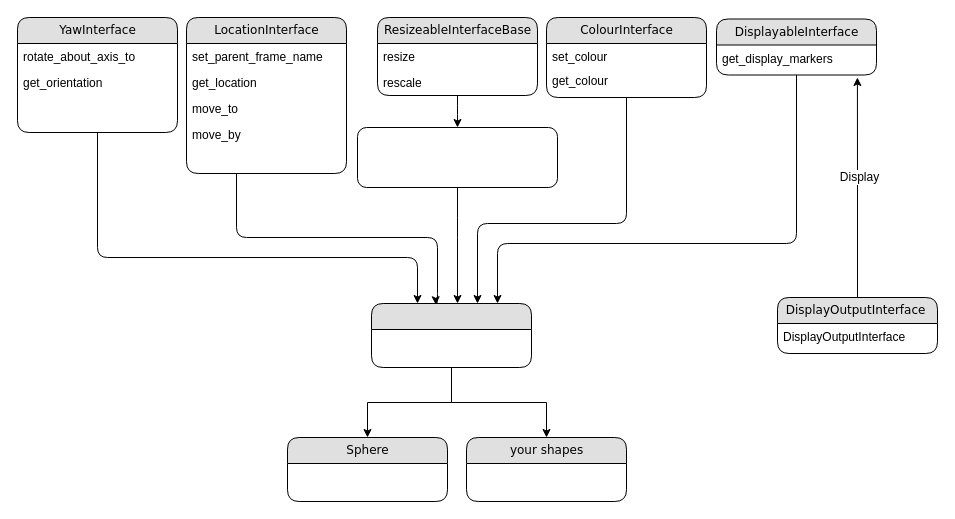
Some shapes in this 955 by 519 pixel diagram are drawn without their labels. The shapes that lost their labels are listed below. From the top down, each one's centre as x and y in pixels, then its label:
At [457,157]: "BasicResizeableInterface = ResizeableInterfaceBase<AllAxis>".
At [451,335]: "ShapeCommonInterface".
